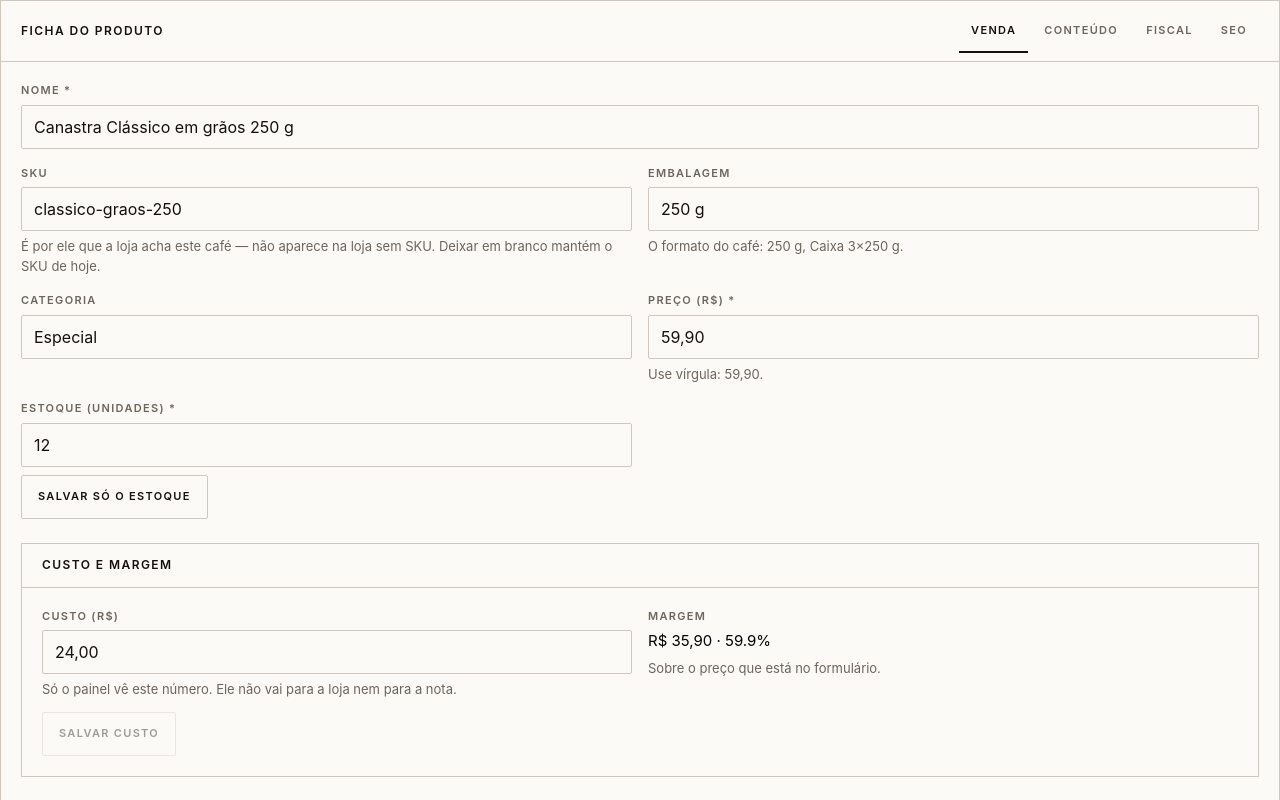
os quatro campos de medida › existem na tela, na aba Fiscal, com os valores reais do produto
Click the tab "Fiscal": coordinates (1169, 31) [1134, 9, 1205, 53]
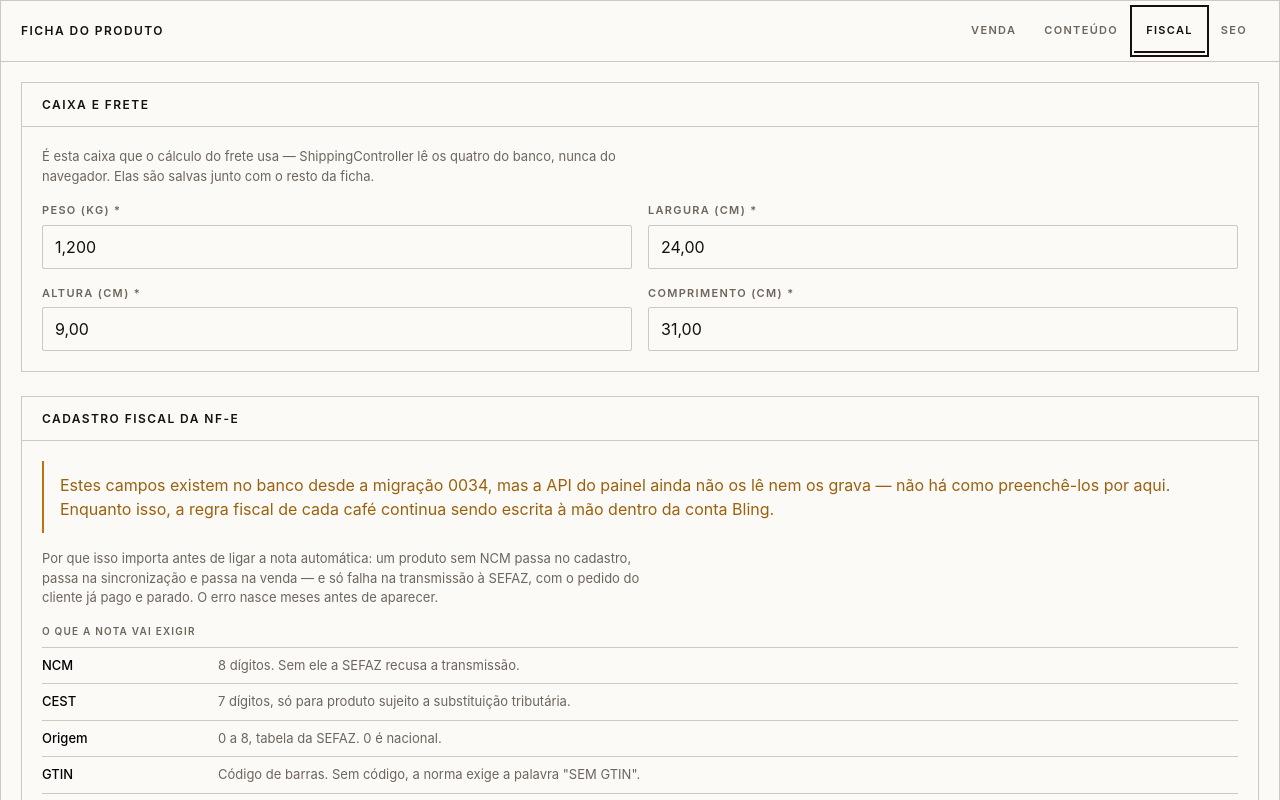
Now the field labelled "Peso (kg) *" holds "1,200", box [42, 224, 632, 268]
Now the field labelled "Largura (cm) *" holds "24,00", box [648, 224, 1238, 268]
Now the field labelled "Altura (cm) *" holds "9,00", box [42, 307, 632, 351]
